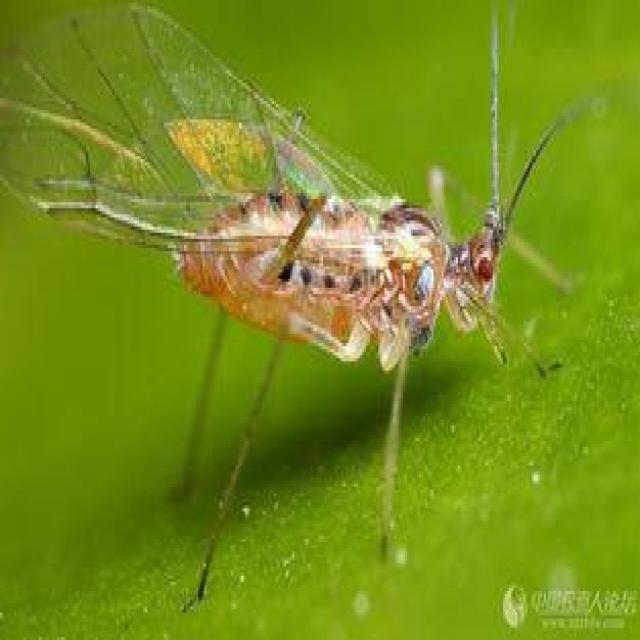Aphids: (15, 10, 602, 555)
